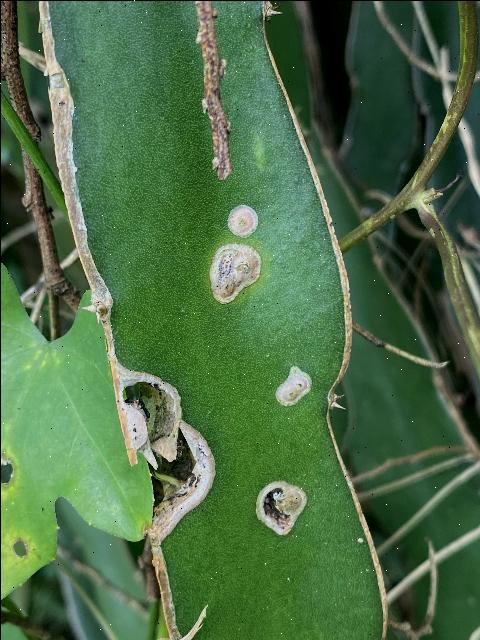stemcanker: (119, 368, 216, 544), (191, 1, 234, 185), (252, 478, 311, 539), (209, 242, 264, 305), (274, 364, 315, 410), (223, 202, 262, 241)
